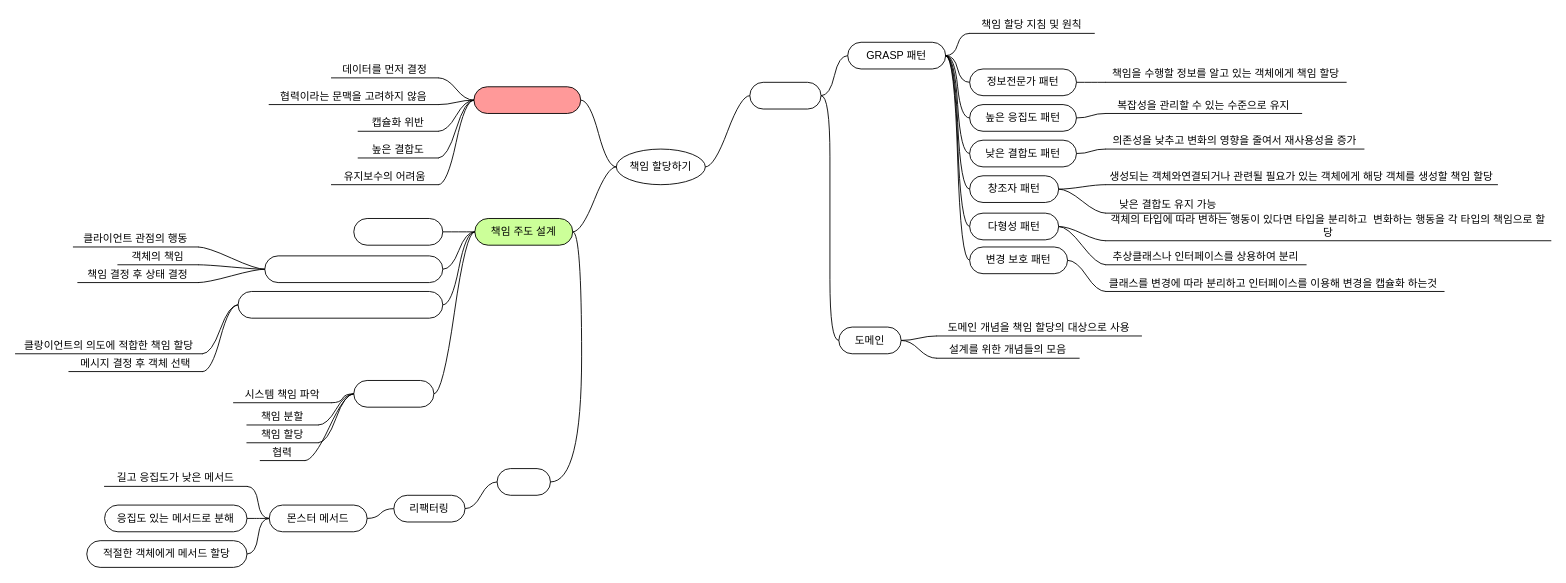
The diagram is 1566 pixels wide and 583 high, and some of its shapes have lost their labels. Here are the shapes that lost their labels. From the top down, the centre of each, then its label:
the point at 527,99: 데이터 중심 설계
the point at 785,95: 책임할당
the point at 398,231: 책임에 초점
the point at 353,269: 데이터 보다 행동을 먼저 결정하라
the point at 340,304: 협력이라는 문맥 안에서 책임을 결정하라
the point at 393,393: 설계 절차
the point at 523,481: 대안
